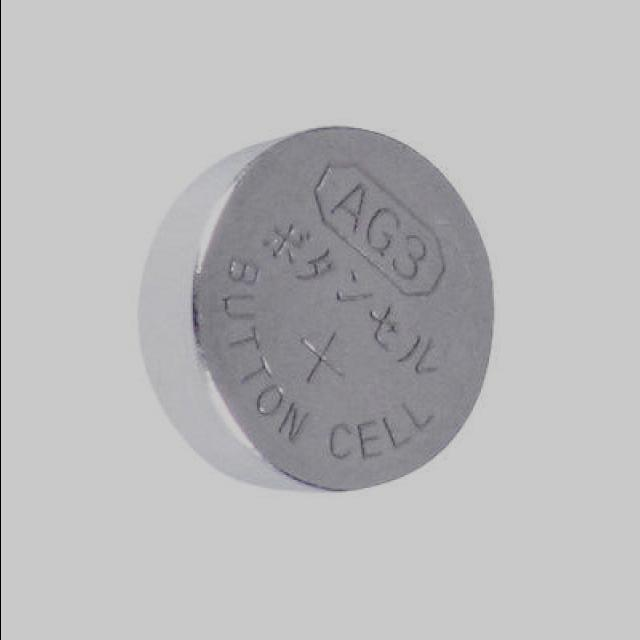COIN: (138, 123, 496, 493)
